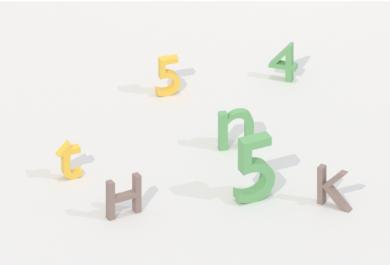4: (266, 40, 304, 86)
5: (230, 129, 278, 209), (150, 50, 184, 102)
H: (101, 168, 146, 224)
K: (313, 158, 355, 216)
n: (215, 103, 258, 155)
t: (53, 138, 87, 183)
